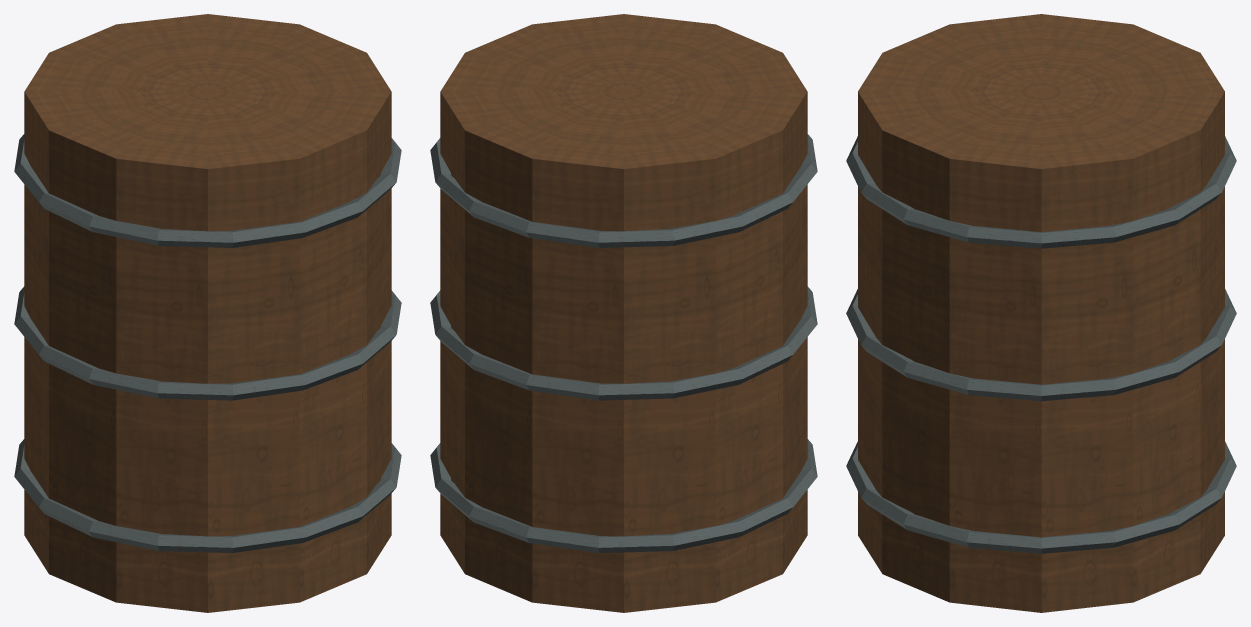
File: en-003_barrel_container_wreckage__closed.obj
The picture shows the model from 3 angles, left to right: view 1: azimuth 30°, elevation 25°; view 2: azimuth 150°, elevation 25°; view 3: azimuth 270°, elevation 25°; orthographic projection.
Visible parts, largest first — view 1: en-003_barrel_container_wreckage__closed; view 2: en-003_barrel_container_wreckage__closed; view 3: en-003_barrel_container_wreckage__closed.
Boxes of the visible parts, x1,y1,x2,y2 form: en-003_barrel_container_wreckage__closed: [14, 14, 401, 612]; en-003_barrel_container_wreckage__closed: [430, 14, 817, 612]; en-003_barrel_container_wreckage__closed: [846, 14, 1236, 612].
Bounding box in the file's own units: 0.766 × 0.96 × 0.766.
Materials: 2 (2 with a texture image).
